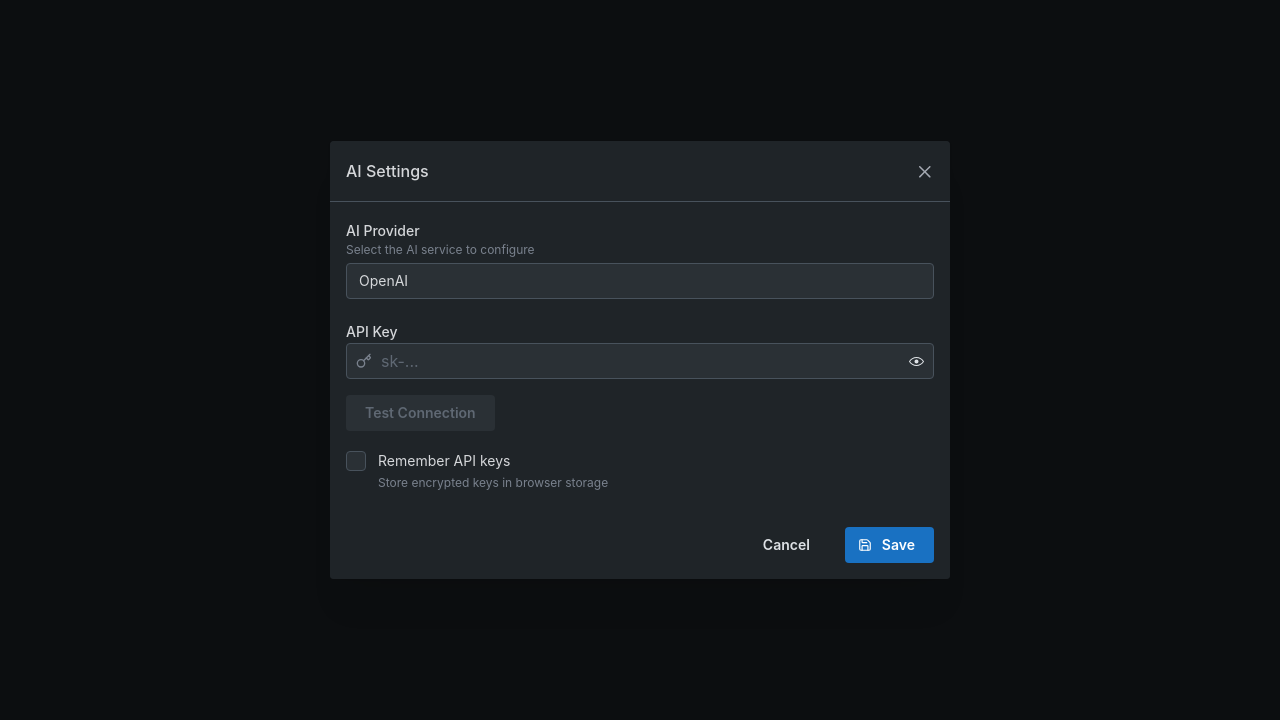
Scenario: AiSettingsModal › persistence options › shows security notice when enabling persistence
The width and height of the screenshot is (1280, 720).
Click the checkbox labelled "Remember API keys" at (356, 461), box top-left (346, 451), bottom-right (366, 471)
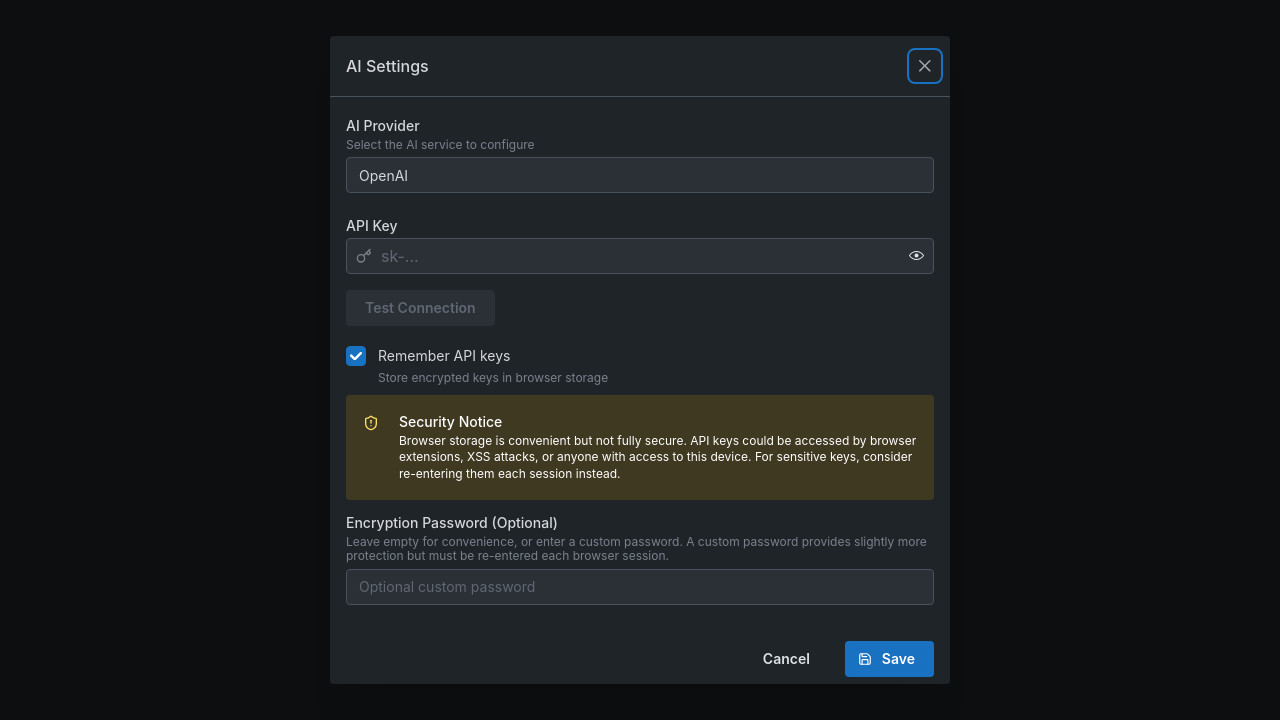
Check: the text "Security Notice" is shown, box top-left (399, 413), bottom-right (502, 430)
